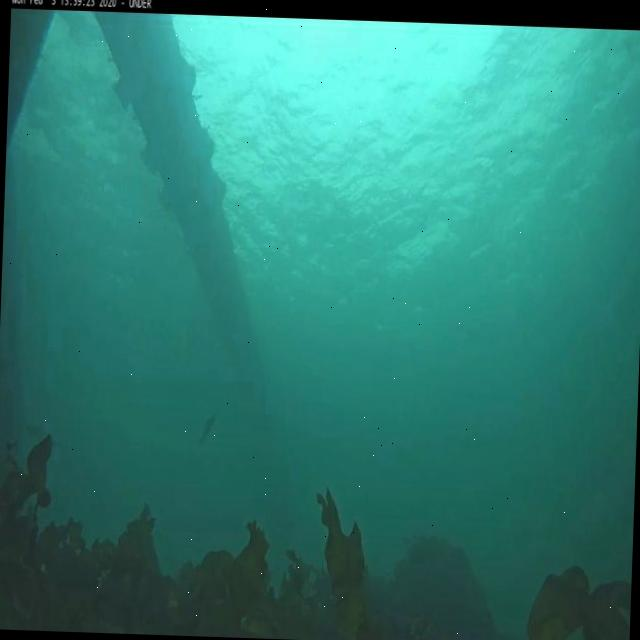fish: (200, 414, 216, 446)
